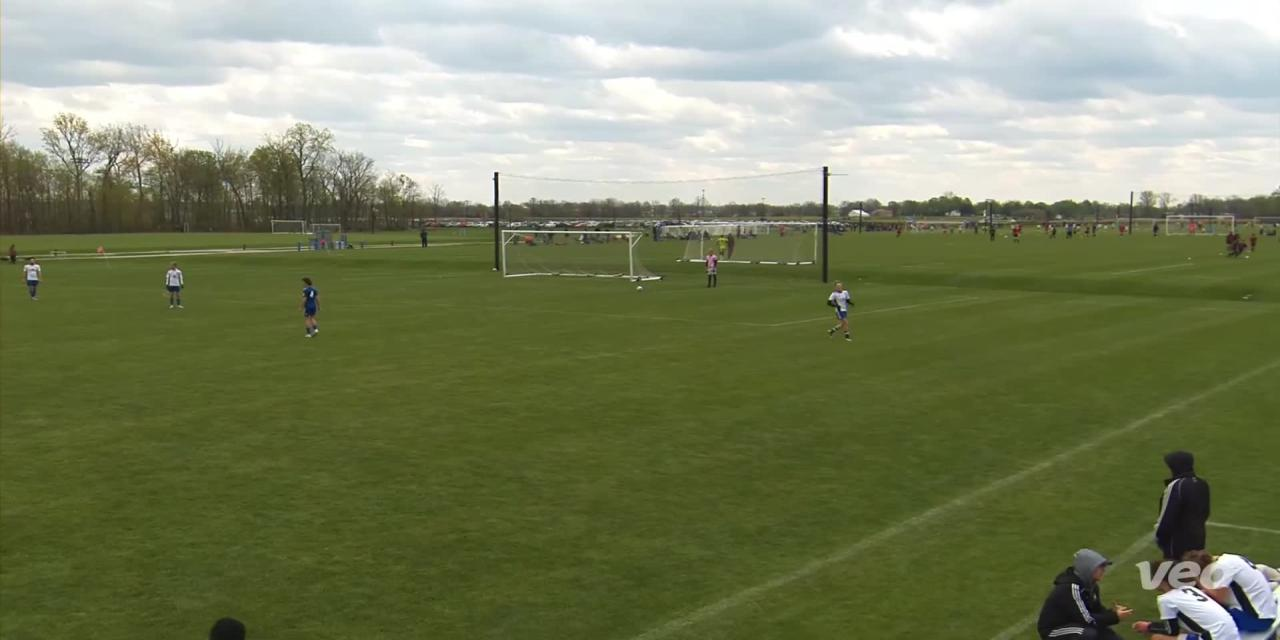goal: (480, 215, 668, 286)
sports ball: (630, 282, 649, 292)
